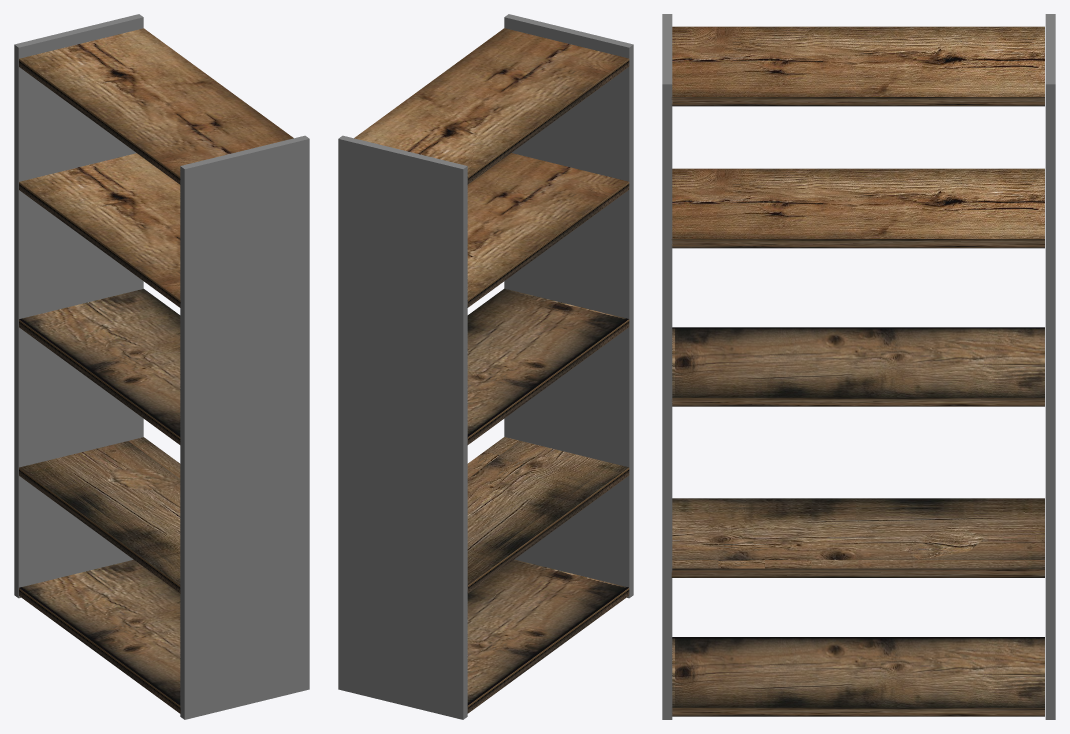
File: Shelf.fbx
The picture shows the model from 3 angles, left to right: view 1: azimuth 30°, elevation 25°; view 2: azimuth 150°, elevation 25°; view 3: azimuth 270°, elevation 25°; orthographic projection. The views are drawn at different scales.
Parts seen in each view (by area): view 1: Cube, Cube.001, Cube.004, Cube.006, Cube.002, Cube.005, Cube.003; view 2: Cube.001, Cube, Cube.004, Cube.006, Cube.002, Cube.005, Cube.003; view 3: Cube.004, Cube.005, Cube.006, Cube.002, Cube.003, Cube.001, Cube.
Boxes of the visible parts, x1=… form: Cube: x1=180, y1=135, x2=309, y2=719; Cube.001: x1=14, y1=14, x2=143, y2=598; Cube.004: x1=19, y1=28, x2=293, y2=184; Cube.006: x1=19, y1=437, x2=180, y2=593; Cube.002: x1=19, y1=289, x2=180, y2=444; Cube.005: x1=19, y1=153, x2=180, y2=307; Cube.003: x1=19, y1=559, x2=180, y2=713; Cube.001: x1=338, y1=135, x2=467, y2=719; Cube: x1=504, y1=14, x2=633, y2=598; Cube.004: x1=354, y1=28, x2=629, y2=184; Cube.006: x1=467, y1=437, x2=629, y2=593; Cube.002: x1=467, y1=288, x2=629, y2=444; Cube.005: x1=467, y1=153, x2=629, y2=307; Cube.003: x1=467, y1=559, x2=629, y2=713; Cube.004: x1=671, y1=26, x2=1044, y2=106; Cube.005: x1=671, y1=168, x2=1044, y2=248; Cube.006: x1=671, y1=498, x2=1044, y2=577; Cube.002: x1=671, y1=327, x2=1044, y2=406; Cube.003: x1=671, y1=637, x2=1044, y2=716; Cube.001: x1=1045, y1=14, x2=1055, y2=719; Cube: x1=662, y1=14, x2=672, y2=719.
Size of the model in its own units: 200 by 842 by 473.
4 materials, 3 textured.
